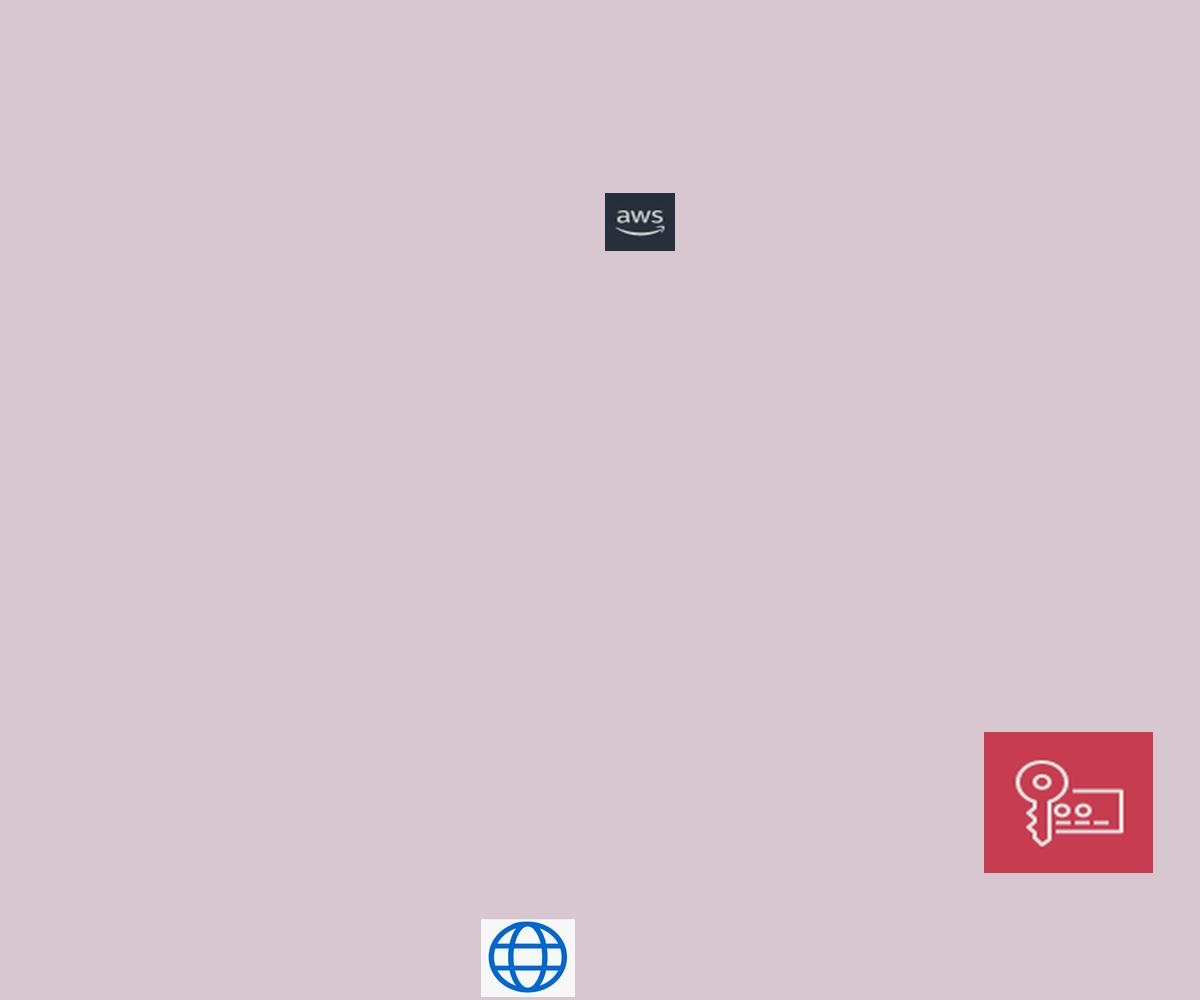AWS-Cloud-logo: (605, 193, 675, 251)
AWS-Key-Management-Service: (984, 732, 1153, 873)
Azure_http: (481, 919, 575, 997)
